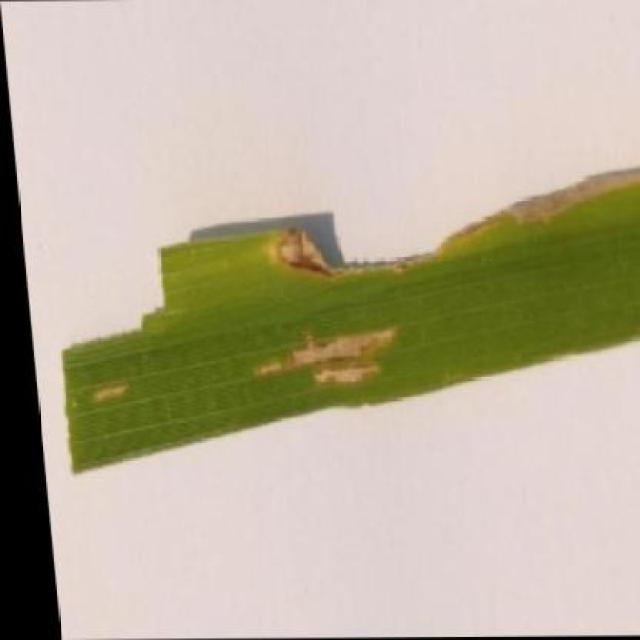Brown_Spot: (12, 158, 640, 474)
